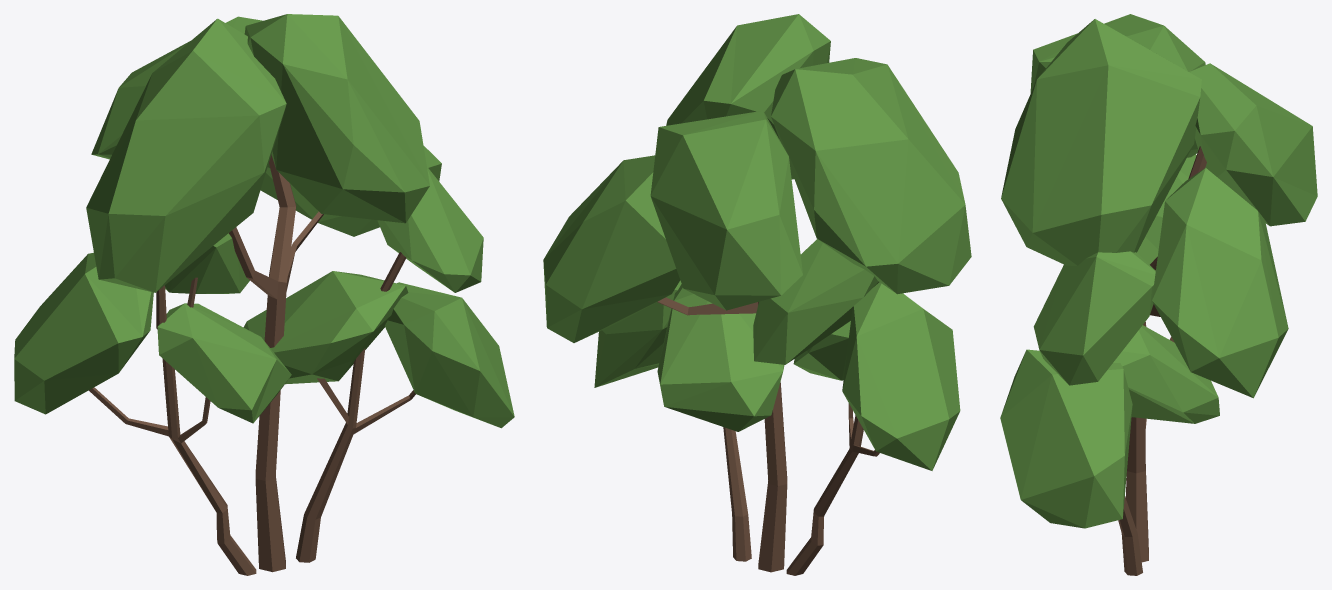
The model's file is tree9.fbx.
The picture shows the model from 3 angles, left to right: view 1: azimuth 30°, elevation 25°; view 2: azimuth 150°, elevation 25°; view 3: azimuth 270°, elevation 25°; orthographic projection. The views are drawn at different scales.
Parts seen in each view (by area): view 1: tree9; view 2: tree9; view 3: tree9.
Boxes of the visible parts, x1,y1,x2,y2 form: tree9: (14,14,514,575); tree9: (543,14,971,575); tree9: (1000,14,1317,575).
Bounding box in the file's own units: 308 × 392 × 210.
